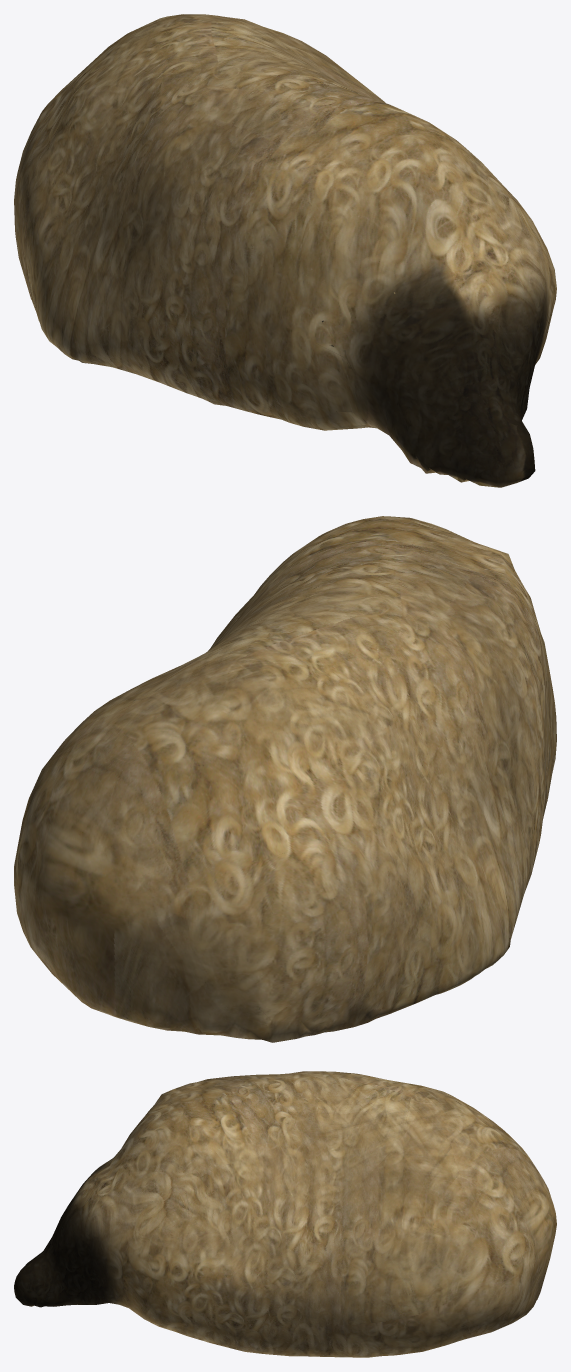
The picture shows the model from 3 angles, top to bottom: view 1: azimuth 30°, elevation 25°; view 2: azimuth 150°, elevation 25°; view 3: azimuth 270°, elevation 25°; orthographic projection. The views are drawn at different scales.
Parts seen in each view (by area): view 1: Cube; view 2: Cube; view 3: Cube.
Boxes of the visible parts, <box> form: Cube: <box>14,14,556,487</box>; Cube: <box>14,516,556,1042</box>; Cube: <box>14,1071,556,1357</box>.
Bounding box in the file's own units: 168 × 139 × 300.
Materials: 1 (1 with a texture image).
